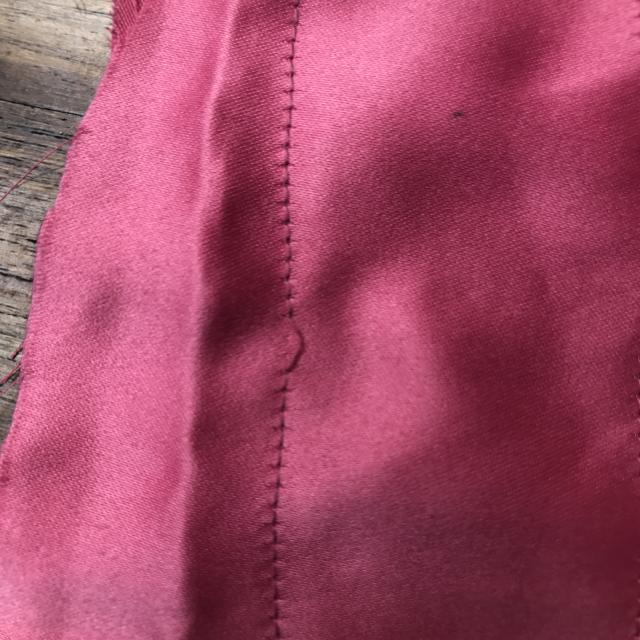skip: (254, 308, 330, 377)
